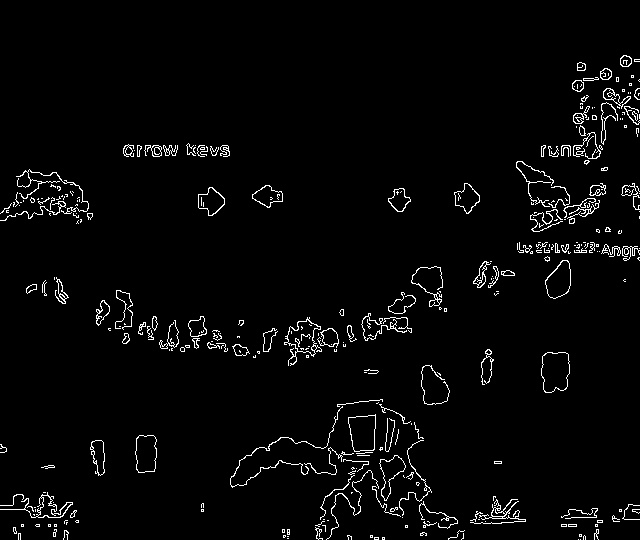down: (376, 182, 418, 222)
left: (245, 178, 290, 215)
right: (187, 179, 232, 222), (448, 178, 484, 219)
